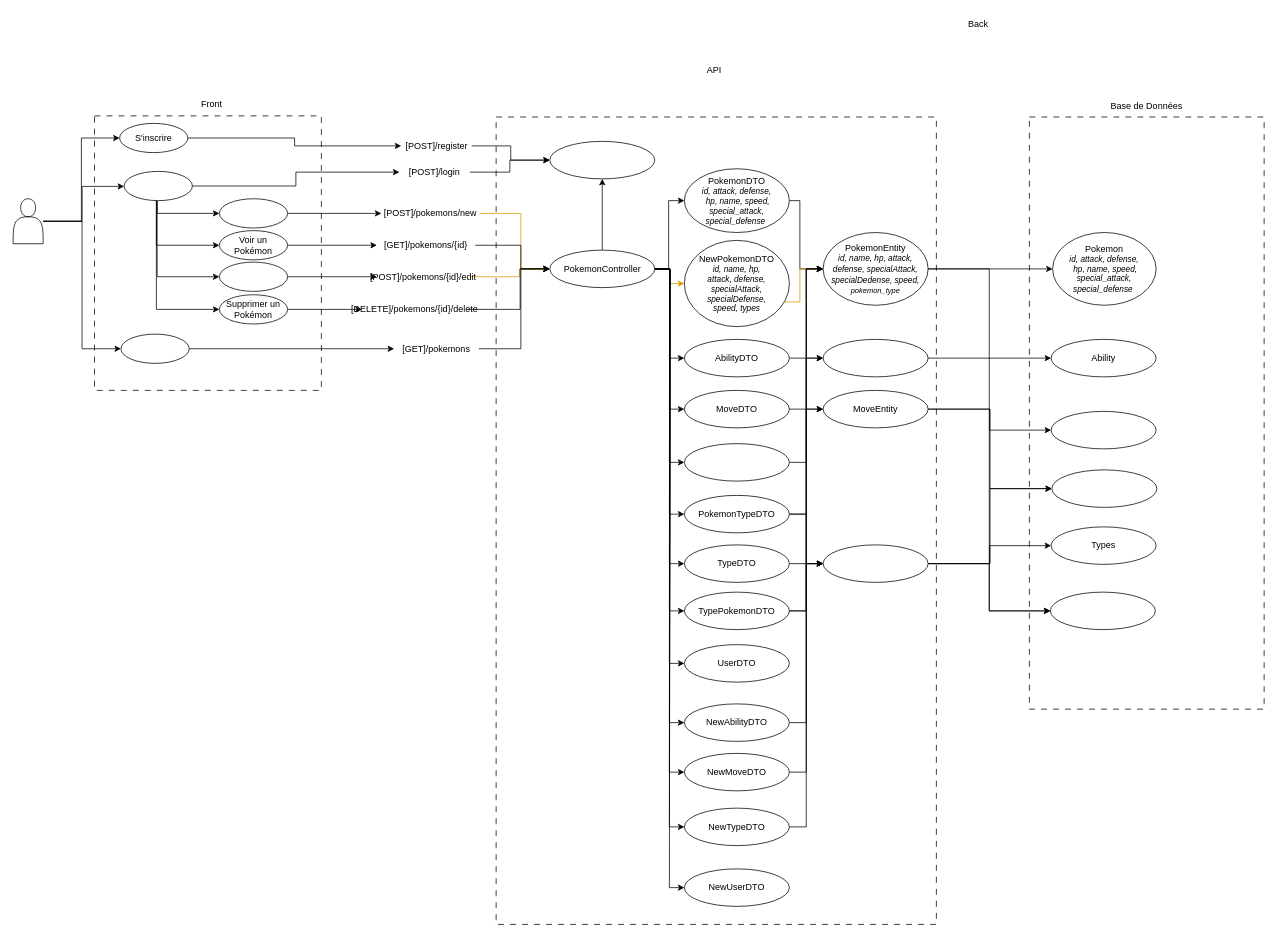
Image size: 1277x938. Some labels were removed from this diagram. Each missing label, with the centre of its shape:
"AbilityEntity" goes at point (875, 358).
"Ajouter un Pokémon" goes at point (253, 213).
"Modifier un Pokémon" goes at point (253, 276).
"Move" goes at point (1103, 430).
"Move_Type" goes at point (1104, 488).
"Pokemon_Types" goes at point (1102, 610).
"PokemonSimpleDTO" goes at point (736, 462).
"Se connecter" goes at point (157, 186).
"TypeEntity" goes at point (875, 563).
"UserController" goes at point (602, 160).
"Voir les pokemons" goes at point (154, 348).
